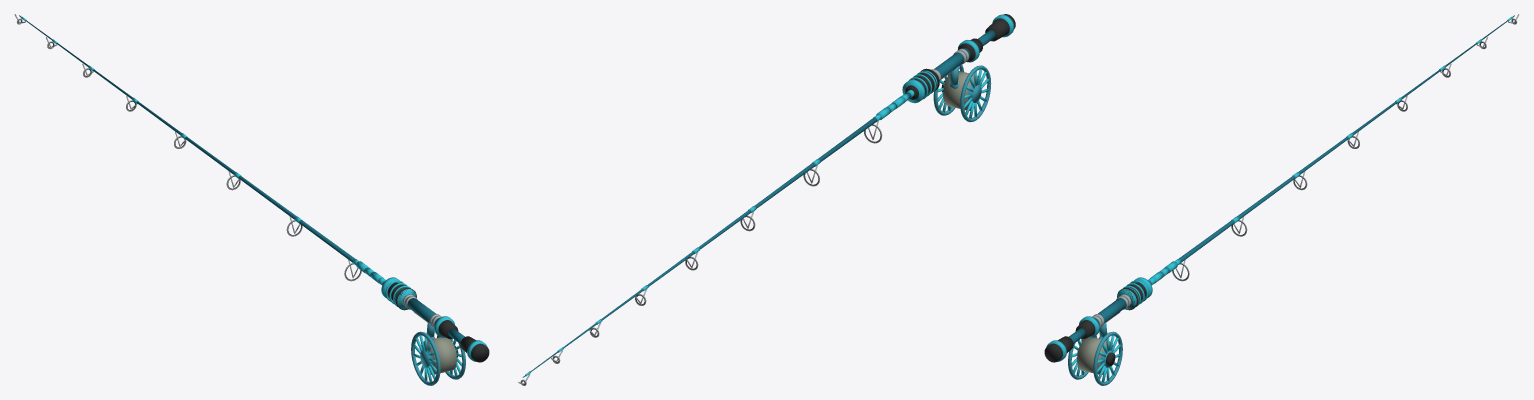
File: kingfisher_fly.glb
The picture shows the model from 3 angles, left to right: view 1: azimuth 30°, elevation 25°; view 2: azimuth 150°, elevation 25°; view 3: azimuth 330°, elevation 25°; orthographic projection. The views are drawn at different scales.
Visible parts, largest first — view 1: Tapered carbon blank.007; view 2: Tapered carbon blank.007; view 3: Tapered carbon blank.007.
Part boxes in pixels (box(x1,y1,x2,y2)): Tapered carbon blank.007: box(14, 14, 489, 385); Tapered carbon blank.007: box(518, 14, 1015, 385); Tapered carbon blank.007: box(1044, 14, 1519, 385).
Bounding box in the file's own units: 0.073 × 0.156 × 1.91.
